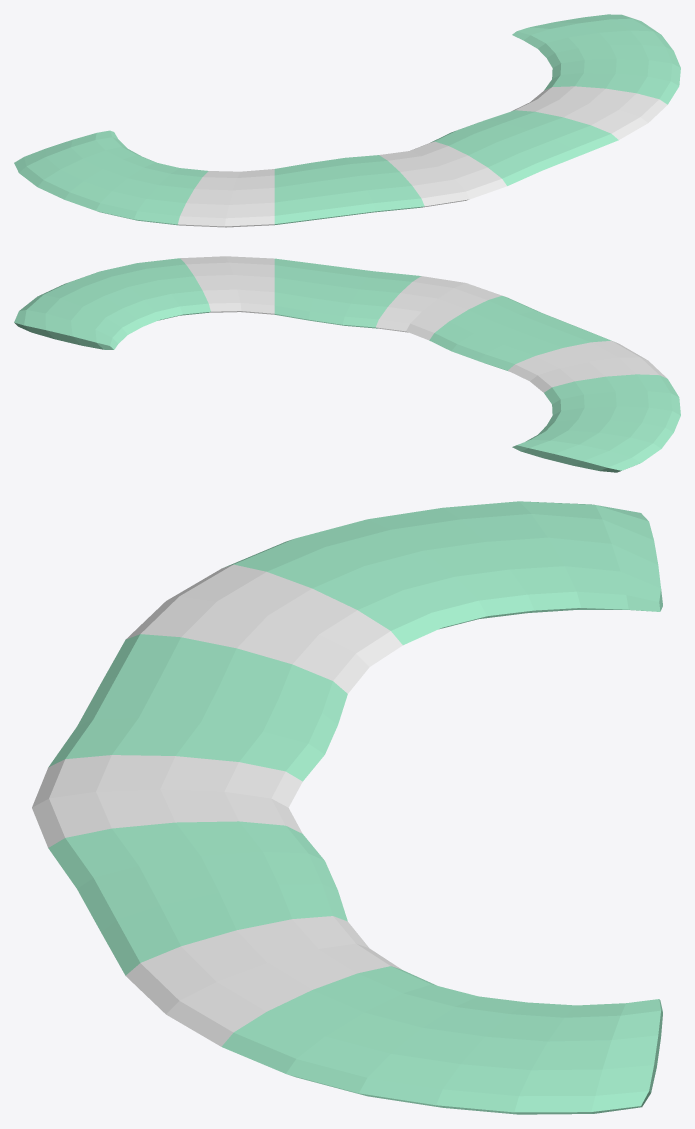
File: Shockwave.fbx
3 renders of one model, top to bottom at view 1: azimuth 30°, elevation 25°; view 2: azimuth 150°, elevation 25°; view 3: azimuth 270°, elevation 25°, orthographic. The views are drawn at different scales.
Visible parts, largest first — view 1: Shockwave; view 2: Shockwave; view 3: Shockwave.
Part boxes in pixels (box(x1,y1,x2,y2)): Shockwave: box(14, 14, 680, 227); Shockwave: box(14, 256, 680, 472); Shockwave: box(32, 501, 662, 1114).
Size of the model in its own units: 238 by 6.75 by 104.
